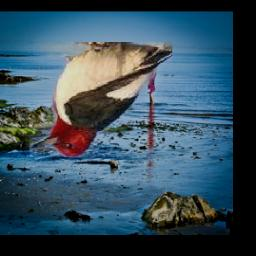Woodpecker: (30, 42, 172, 157)
